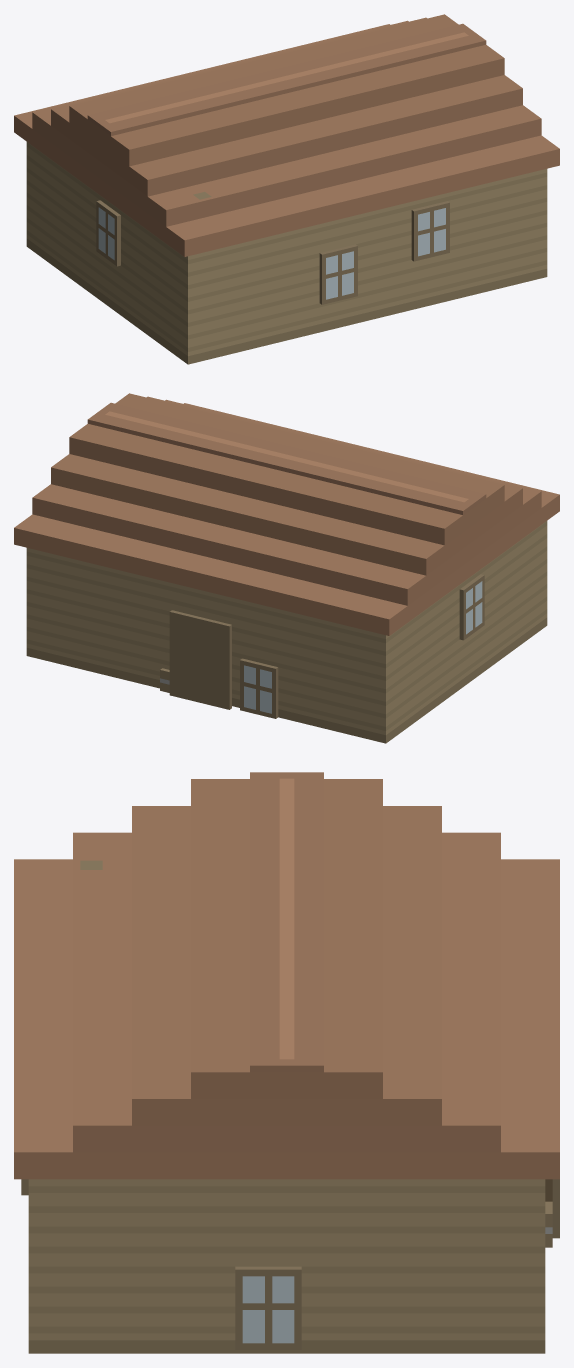
Rendered from aserradero_01.glb.
3 views of the same model, one above another, from view 1: azimuth 30°, elevation 25°; view 2: azimuth 150°, elevation 25°; view 3: azimuth 270°, elevation 25° (orthographic). The views are drawn at different scales.
Parts seen in each view (by area): view 1: aserradero_01; view 2: aserradero_01; view 3: aserradero_01.
Boxes of the visible parts, x1,y1,x2,y2 form: aserradero_01: (14,14,559,364); aserradero_01: (14,393,559,743); aserradero_01: (14,772,559,1353).
Size of the model in its own units: 9.4 by 4.4 by 7.4.
